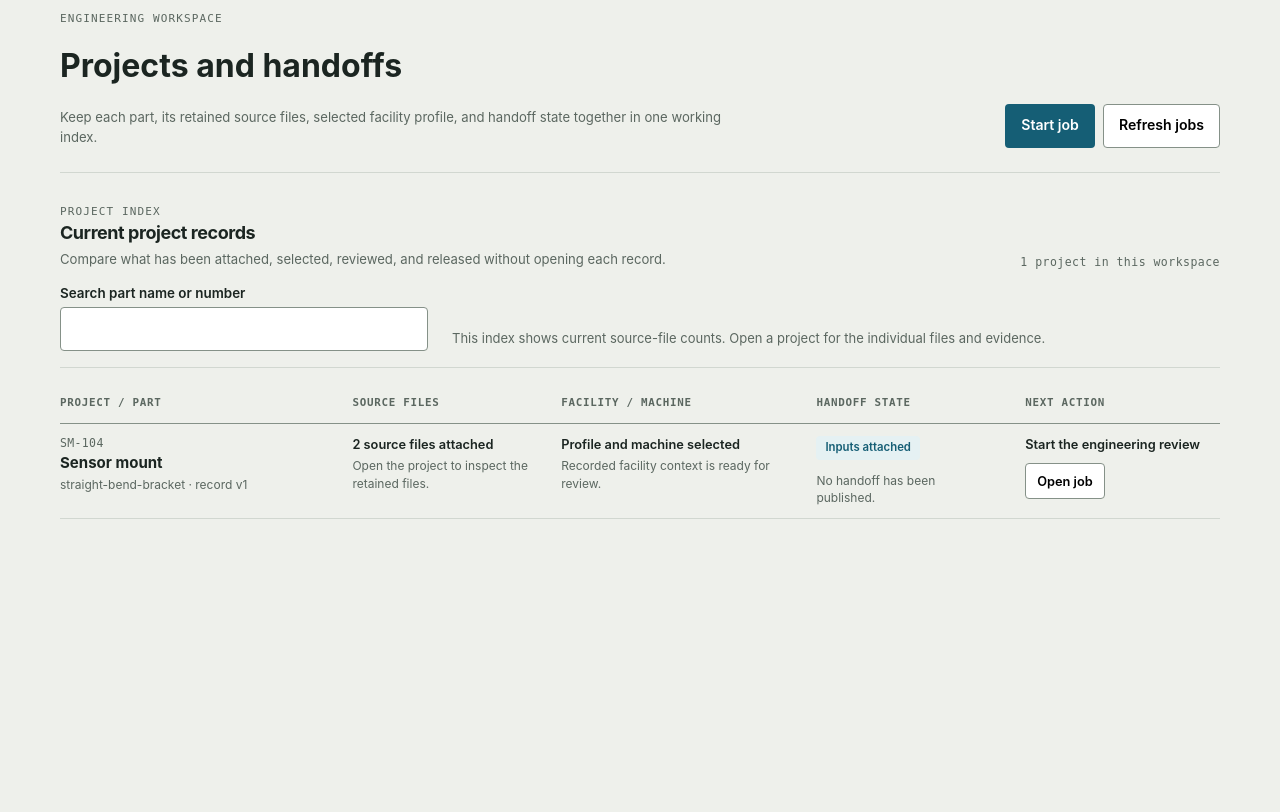
Test: designer jobs and intake › keeps previously loaded jobs visible with a stale-data notice when refresh fails
The image size is (1280, 812).
Expected: the button "Open job" is shown, x1=1025 y1=464 x2=1105 y2=500
Click the button "Refresh jobs" at point(1161, 126), box x1=1103 y1=104 x2=1220 y2=148
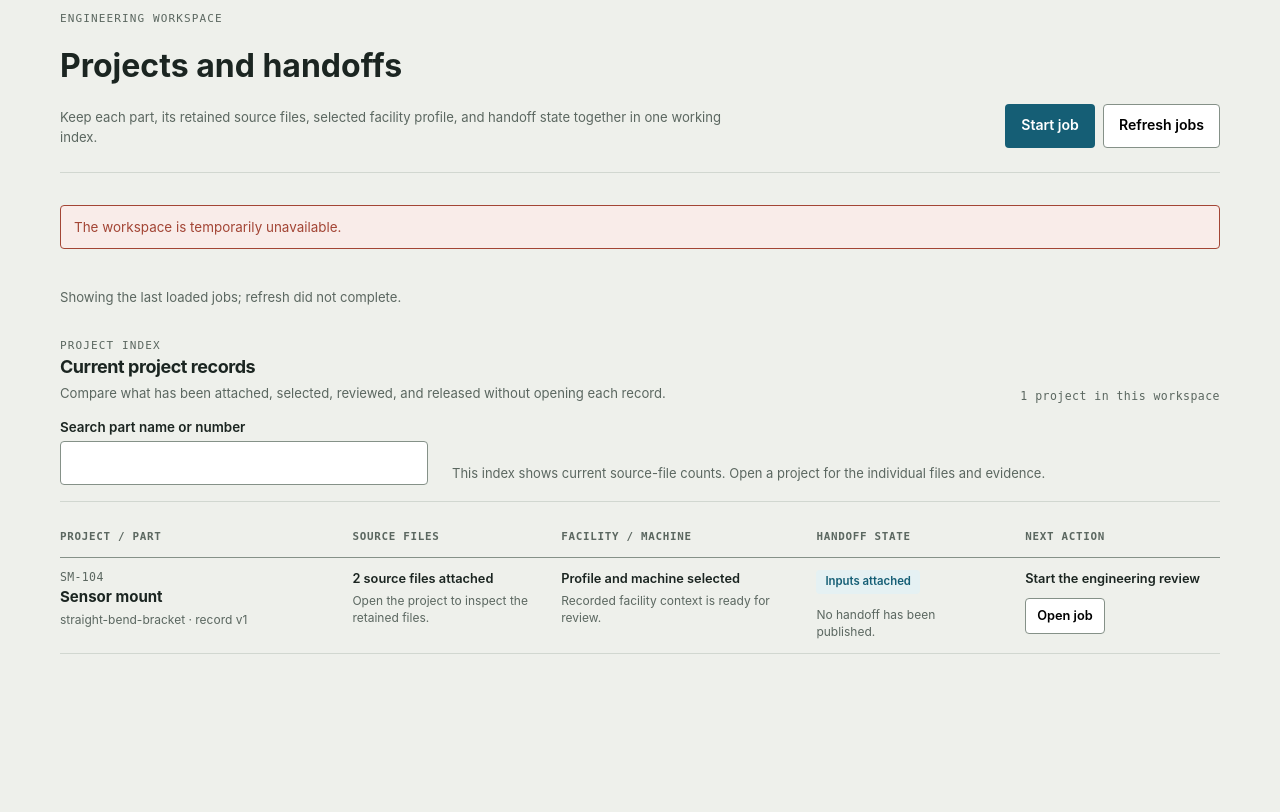
Expected: the text "Sensor mount" is shown, x1=60 y1=587 x2=163 y2=606
Result: the message "The workspace is temporarily unavailable." is shown at x1=60 y1=205 x2=1220 y2=249
Result: the message "Showing the last loaded jobs; refresh did not complete." is shown at x1=60 y1=289 x2=401 y2=305
